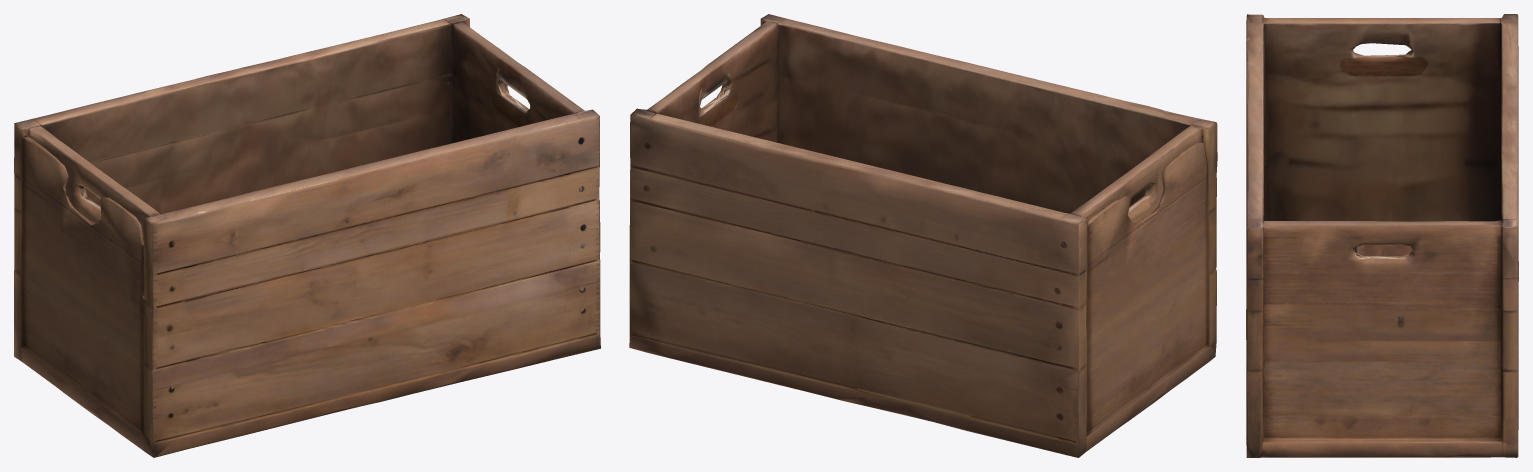
File: Wooden_Storage_Box_1120211005_texture.fbx
The picture shows the model from 3 angles, left to right: view 1: azimuth 30°, elevation 25°; view 2: azimuth 150°, elevation 25°; view 3: azimuth 270°, elevation 25°; orthographic projection. The views are drawn at different scales.
Parts seen in each view (by area): view 1: input; view 2: input; view 3: input.
Boxes of the visible parts, x1,y1,x2,y2 form: input: (14,14,600,457); input: (629,14,1217,457); input: (1246,14,1518,457).
Size of the model in its own units: 201 by 100 by 108.
1 material, 1 textured.
